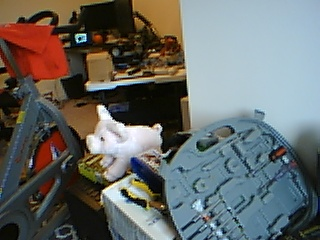piggy: (84, 103, 165, 183)
